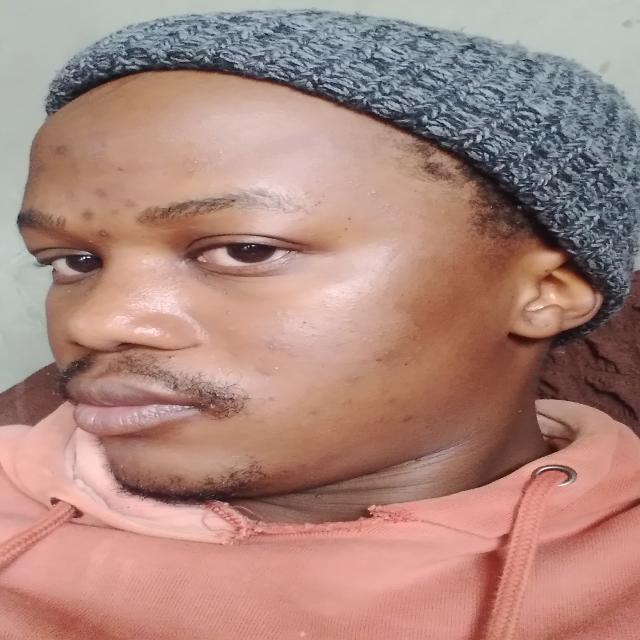Acne: (105, 198, 140, 216), (77, 205, 99, 223), (396, 412, 418, 428), (53, 142, 76, 156), (265, 339, 282, 354), (93, 228, 113, 240), (32, 140, 49, 152), (92, 187, 110, 198)
Eyebags: (179, 258, 336, 302)
